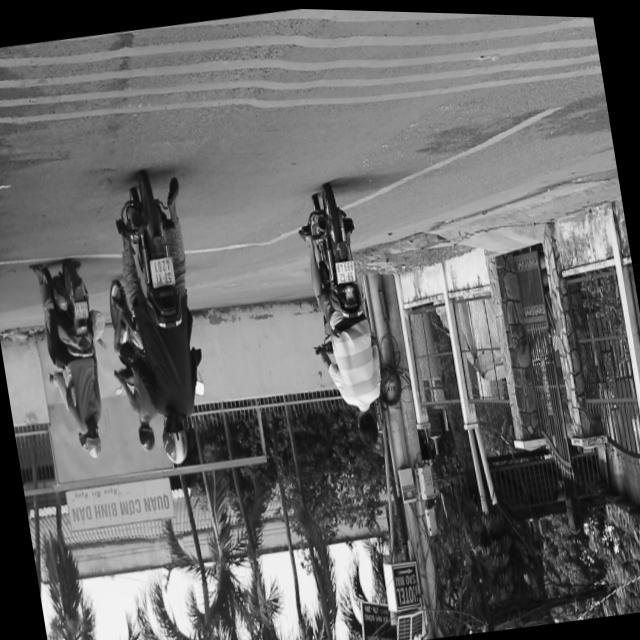helmet: (159, 413, 193, 468), (80, 423, 106, 461)
licenseplate: (104, 167, 226, 471), (290, 179, 394, 455), (32, 256, 118, 467)
motorcyclist: (354, 403, 382, 447)
nohelmet: (149, 255, 176, 287), (334, 257, 355, 282), (72, 300, 88, 319)
